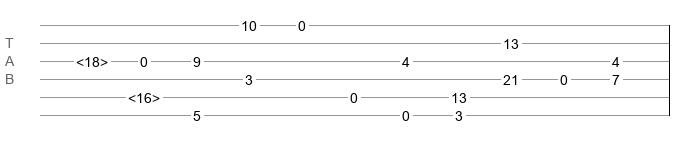0: (140, 54, 148, 64), (298, 18, 306, 28), (350, 90, 358, 100), (402, 108, 410, 118), (560, 72, 568, 82)
10: (241, 18, 257, 28)
13: (451, 90, 467, 100), (503, 36, 519, 46)
21: (503, 72, 519, 82)
3: (245, 72, 253, 82), (455, 108, 463, 118)
4: (402, 54, 410, 64), (612, 54, 620, 64)
5: (193, 108, 201, 118)
7: (612, 72, 620, 82)
9: (193, 54, 201, 64)
harmonic: (76, 54, 108, 64), (128, 90, 160, 100)
